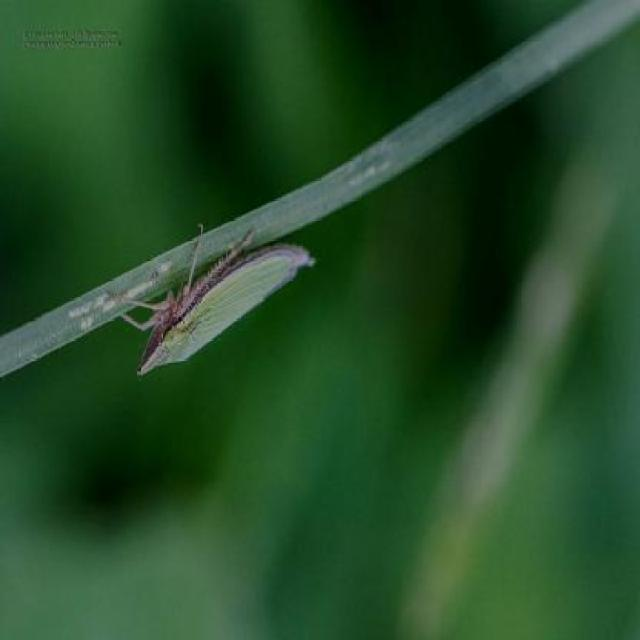green-leafhopper: (104, 212, 319, 386)
